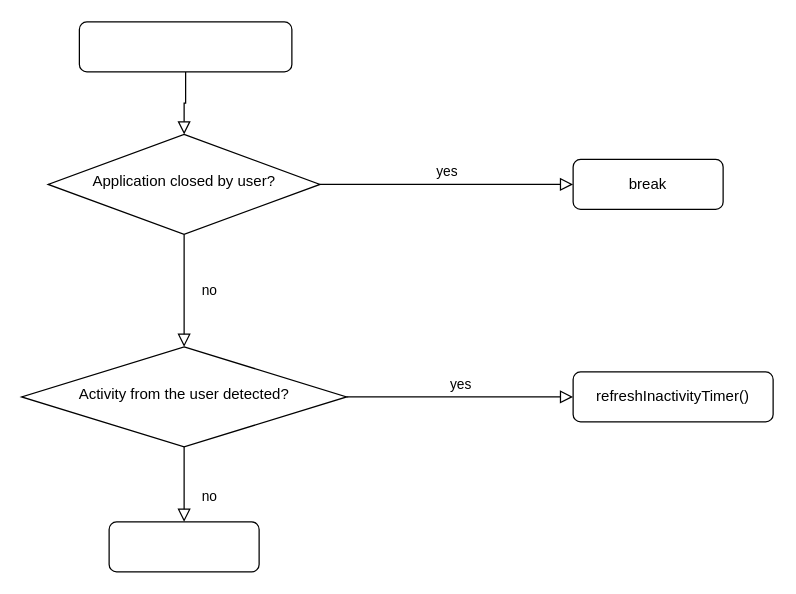
The diagram is 796 pixels wide and 594 high, and some of its shapes have lost their labels. The shapes that lost their labels are listed below. From the top down, each one's centre as x and y in pixels, then its label:
At point (185, 46): "window.read(timeout=1000)".
At point (183, 546): "Repair Lamp".
